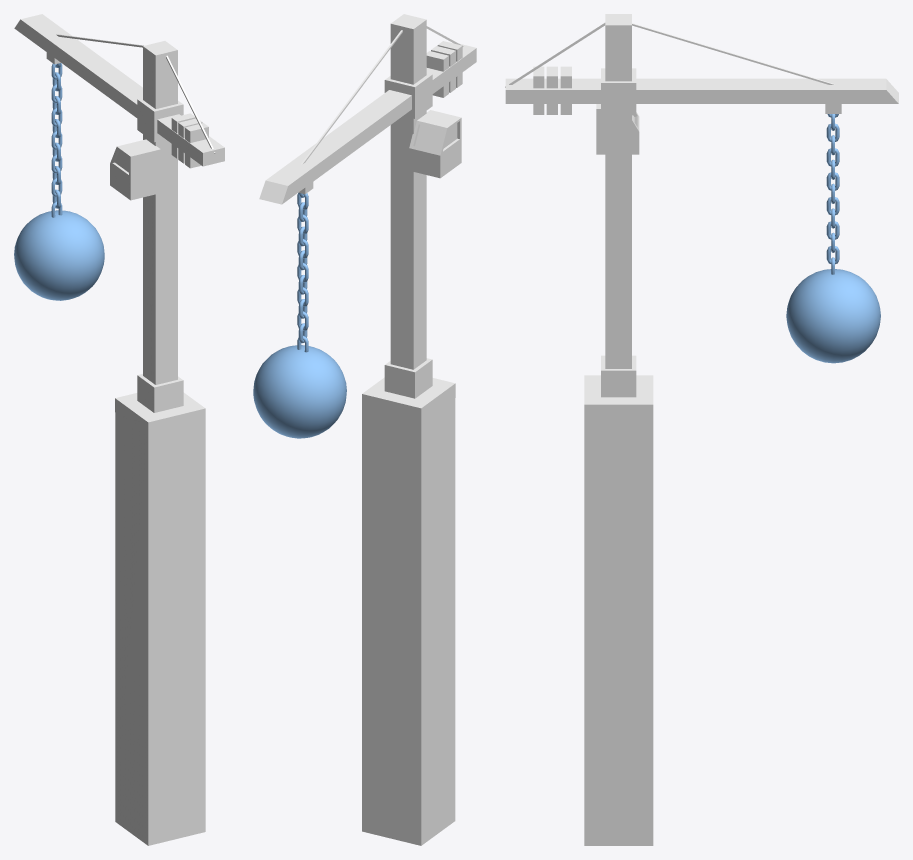
Rendered from Trap02.fbx.
3 views of the same model, side by side, from view 1: azimuth 30°, elevation 25°; view 2: azimuth 150°, elevation 25°; view 3: azimuth 270°, elevation 25° (orthographic). The views are drawn at different scales.
Visible parts, largest first — view 1: Cube, crane, Ball, Chain; view 2: Cube, crane, Ball, Chain; view 3: Cube, crane, Ball, Chain.
Boxes of the visible parts, bbox=[...] form: Cube: bbox=[115, 412, 205, 845]; crane: bbox=[14, 14, 224, 436]; Ball: bbox=[14, 210, 104, 300]; Chain: bbox=[51, 63, 62, 217]; Cube: bbox=[362, 398, 455, 845]; crane: bbox=[259, 14, 476, 422]; Ball: bbox=[253, 345, 346, 438]; Chain: bbox=[297, 192, 308, 352]; Cube: bbox=[584, 419, 653, 845]; crane: bbox=[505, 14, 898, 418]; Ball: bbox=[786, 269, 880, 363]; Chain: bbox=[826, 114, 839, 274].
Size of the model in its own units: 312 by 2835 by 1246.
